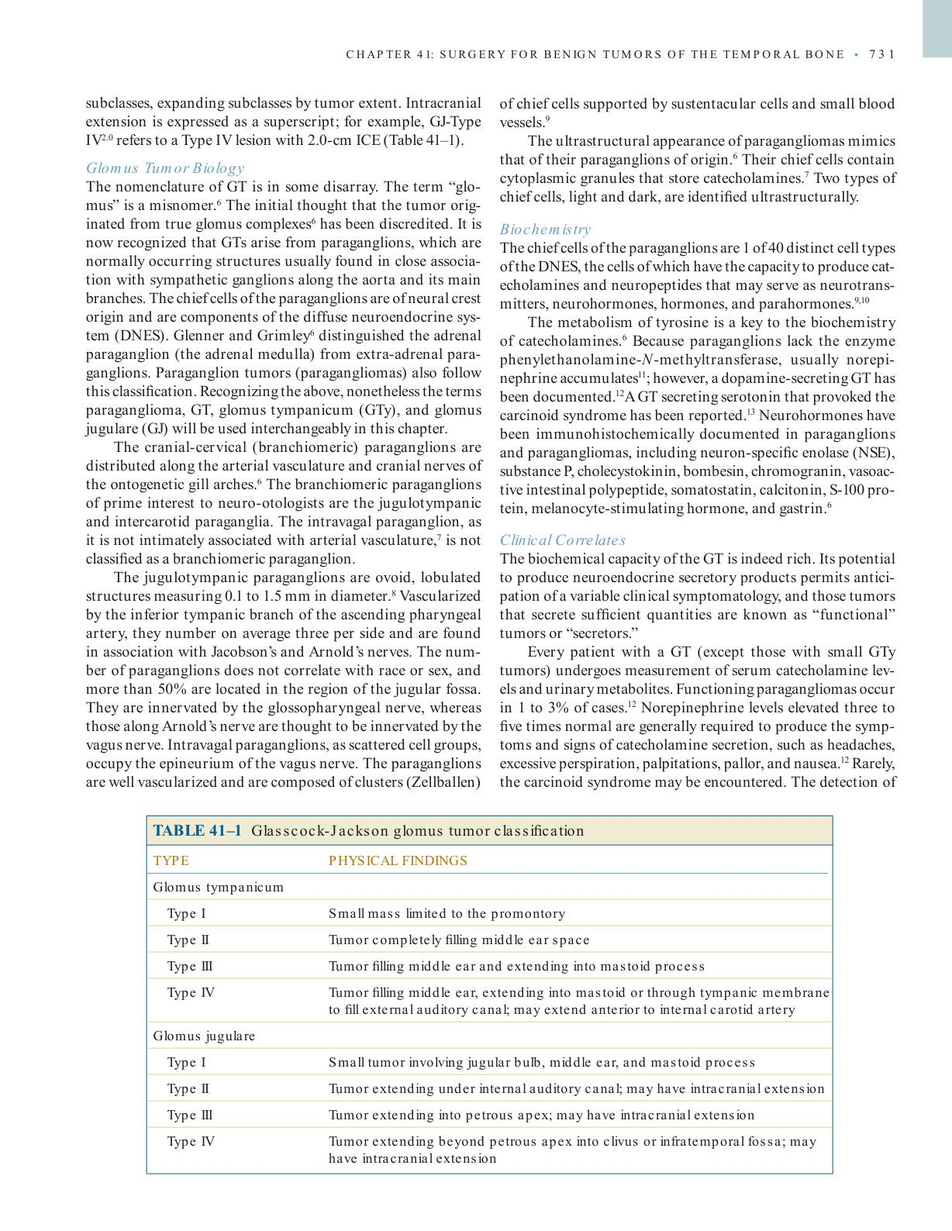caption: (149, 822, 586, 840)
header: (345, 48, 845, 59)
sub-section-heading: (85, 160, 246, 177), (499, 532, 627, 547), (498, 222, 592, 238)
table: (146, 844, 833, 1175)
text: (85, 179, 483, 792), (496, 240, 896, 520), (496, 550, 900, 791), (498, 94, 900, 208), (84, 94, 483, 150)
